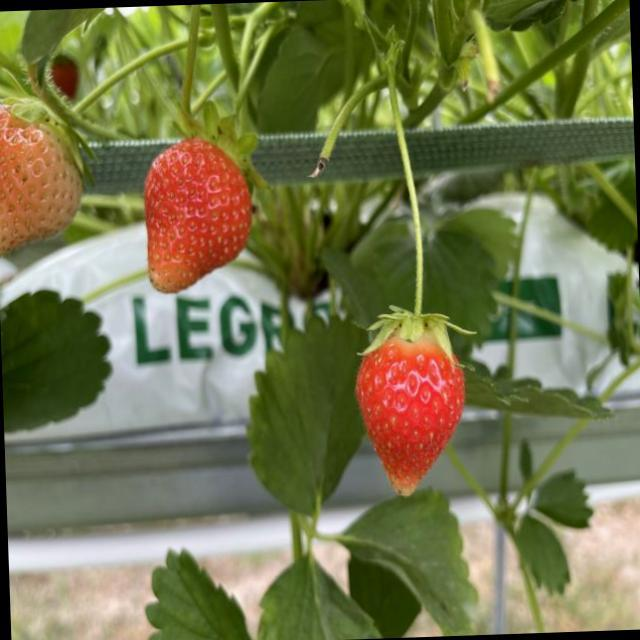stem: (362, 79, 472, 353), (27, 42, 183, 151), (187, 23, 276, 167)
strawberryR: (356, 335, 463, 493), (144, 138, 249, 291), (0, 104, 80, 253)
